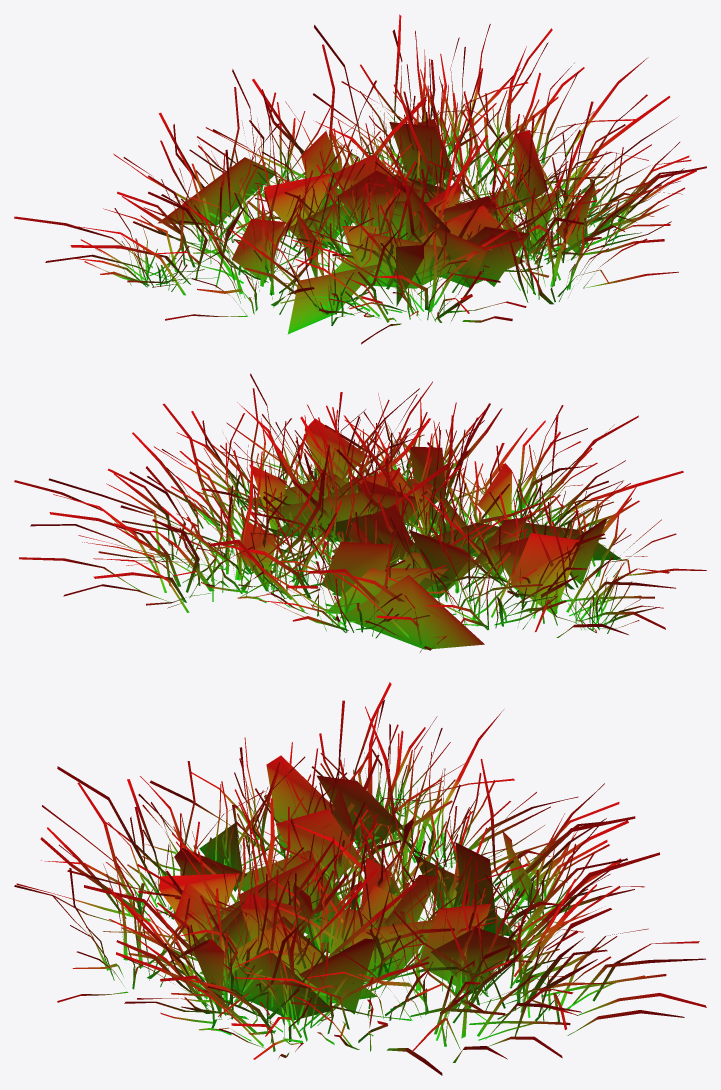
File: Tundra Grass_LOD3_Var26_wk2oaeyqx.fbx
3 renders of one model, top to bottom at view 1: azimuth 30°, elevation 25°; view 2: azimuth 150°, elevation 25°; view 3: azimuth 270°, elevation 25°, orthographic. The views are drawn at different scales.
Parts seen in each view (by area): view 1: _9wi5_Var26_LOD3; view 2: _9wi5_Var26_LOD3; view 3: _9wi5_Var26_LOD3.
Part boxes in pixels (x1,y1,x2,y2): _9wi5_Var26_LOD3: [14, 14, 706, 344]; _9wi5_Var26_LOD3: [14, 373, 706, 652]; _9wi5_Var26_LOD3: [14, 682, 706, 1075].
Bounding box in the file's own units: 95.28 × 22.15 × 77.85.
